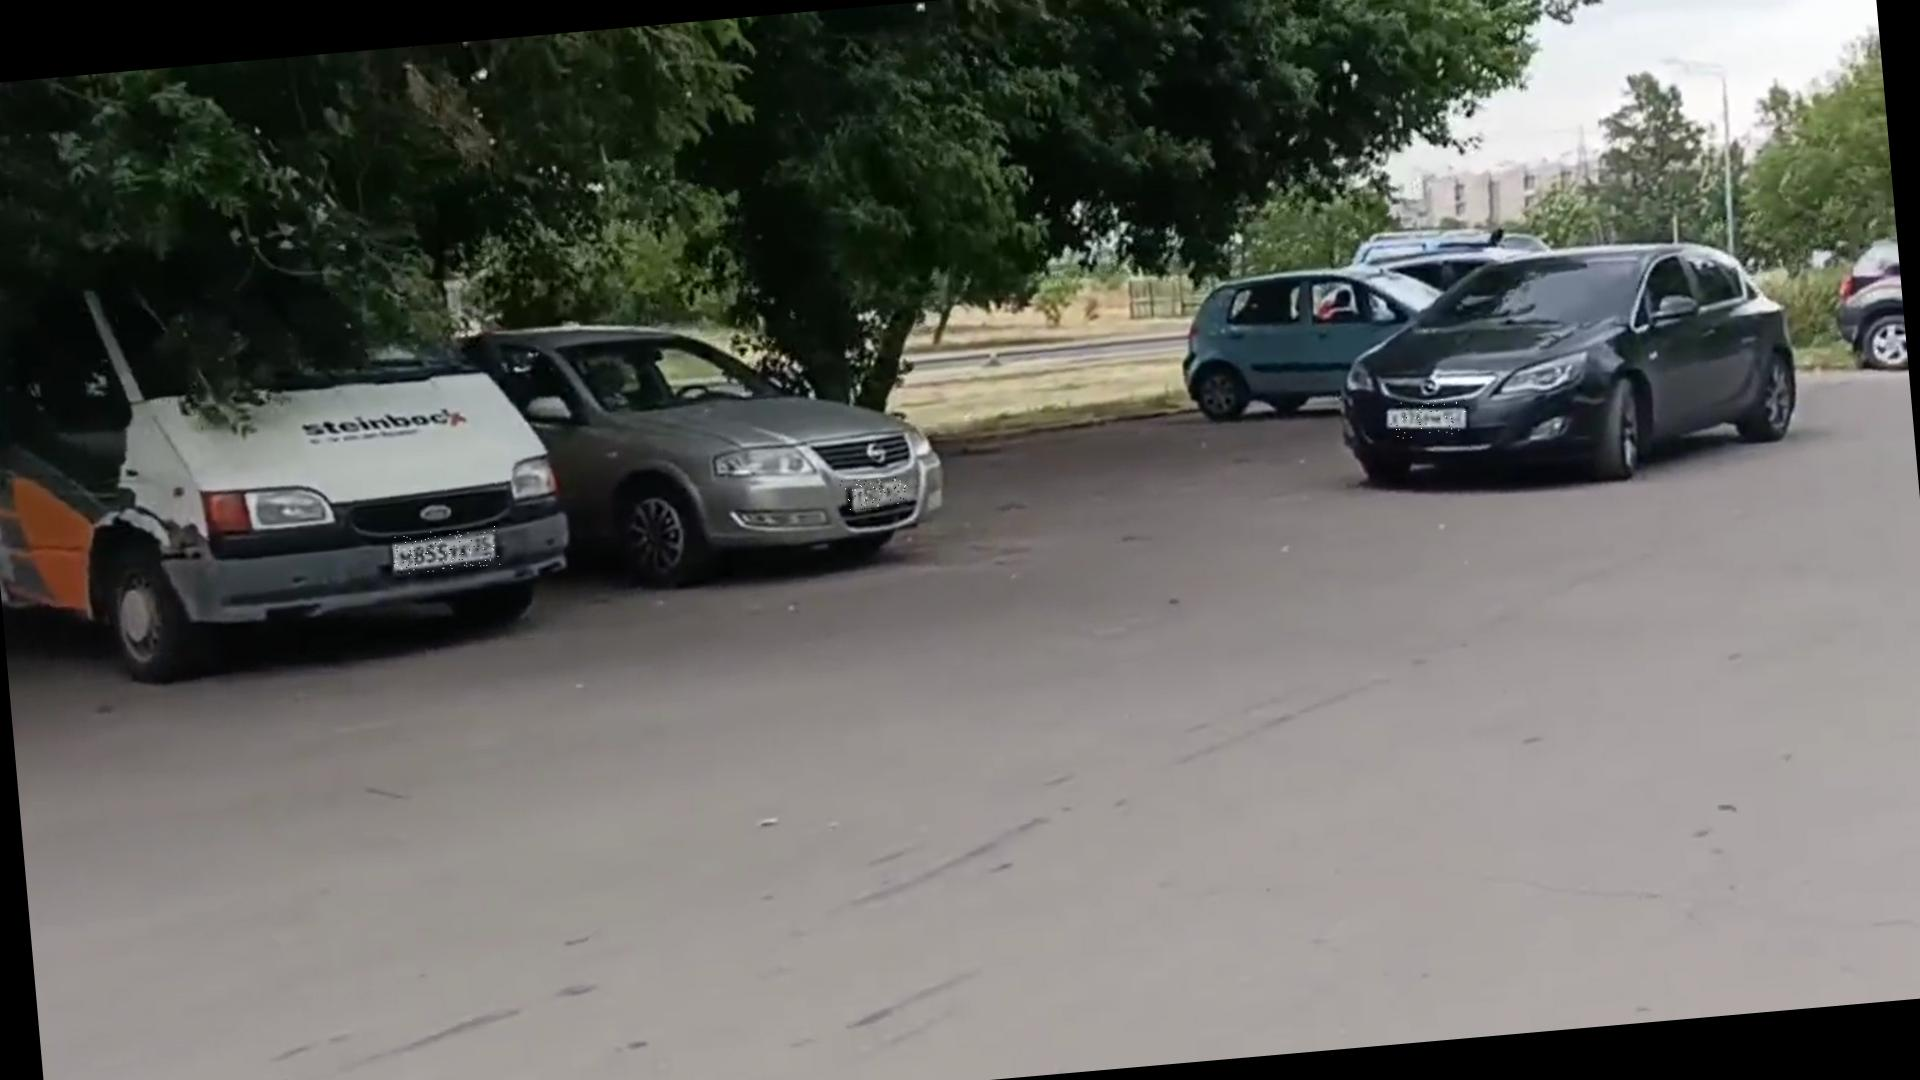plate: (393, 527, 502, 576), (1387, 398, 1469, 441), (841, 476, 910, 513)
